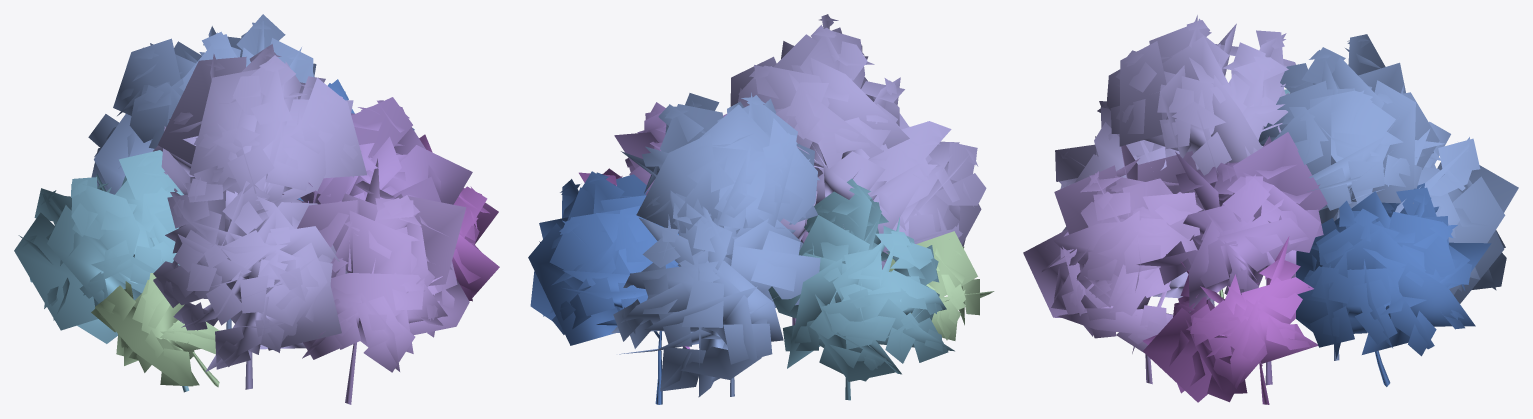
3 renders of one model, left to right at view 1: azimuth 30°, elevation 25°; view 2: azimuth 150°, elevation 25°; view 3: azimuth 270°, elevation 25°, orthographic.
Parts seen in each view (by area): view 1: SM_BS_Laurestine_250cm_HD; view 2: SM_BS_Laurestine_250cm_HD; view 3: SM_BS_Laurestine_250cm_HD.
Boxes of the visible parts, x1=… form: SM_BS_Laurestine_250cm_HD: x1=14, y1=14, x2=499, y2=404; SM_BS_Laurestine_250cm_HD: x1=528, y1=14, x2=994, y2=404; SM_BS_Laurestine_250cm_HD: x1=1023, y1=15, x2=1518, y2=404.
Size of the model in its own units: 121 by 118 by 92.23.
